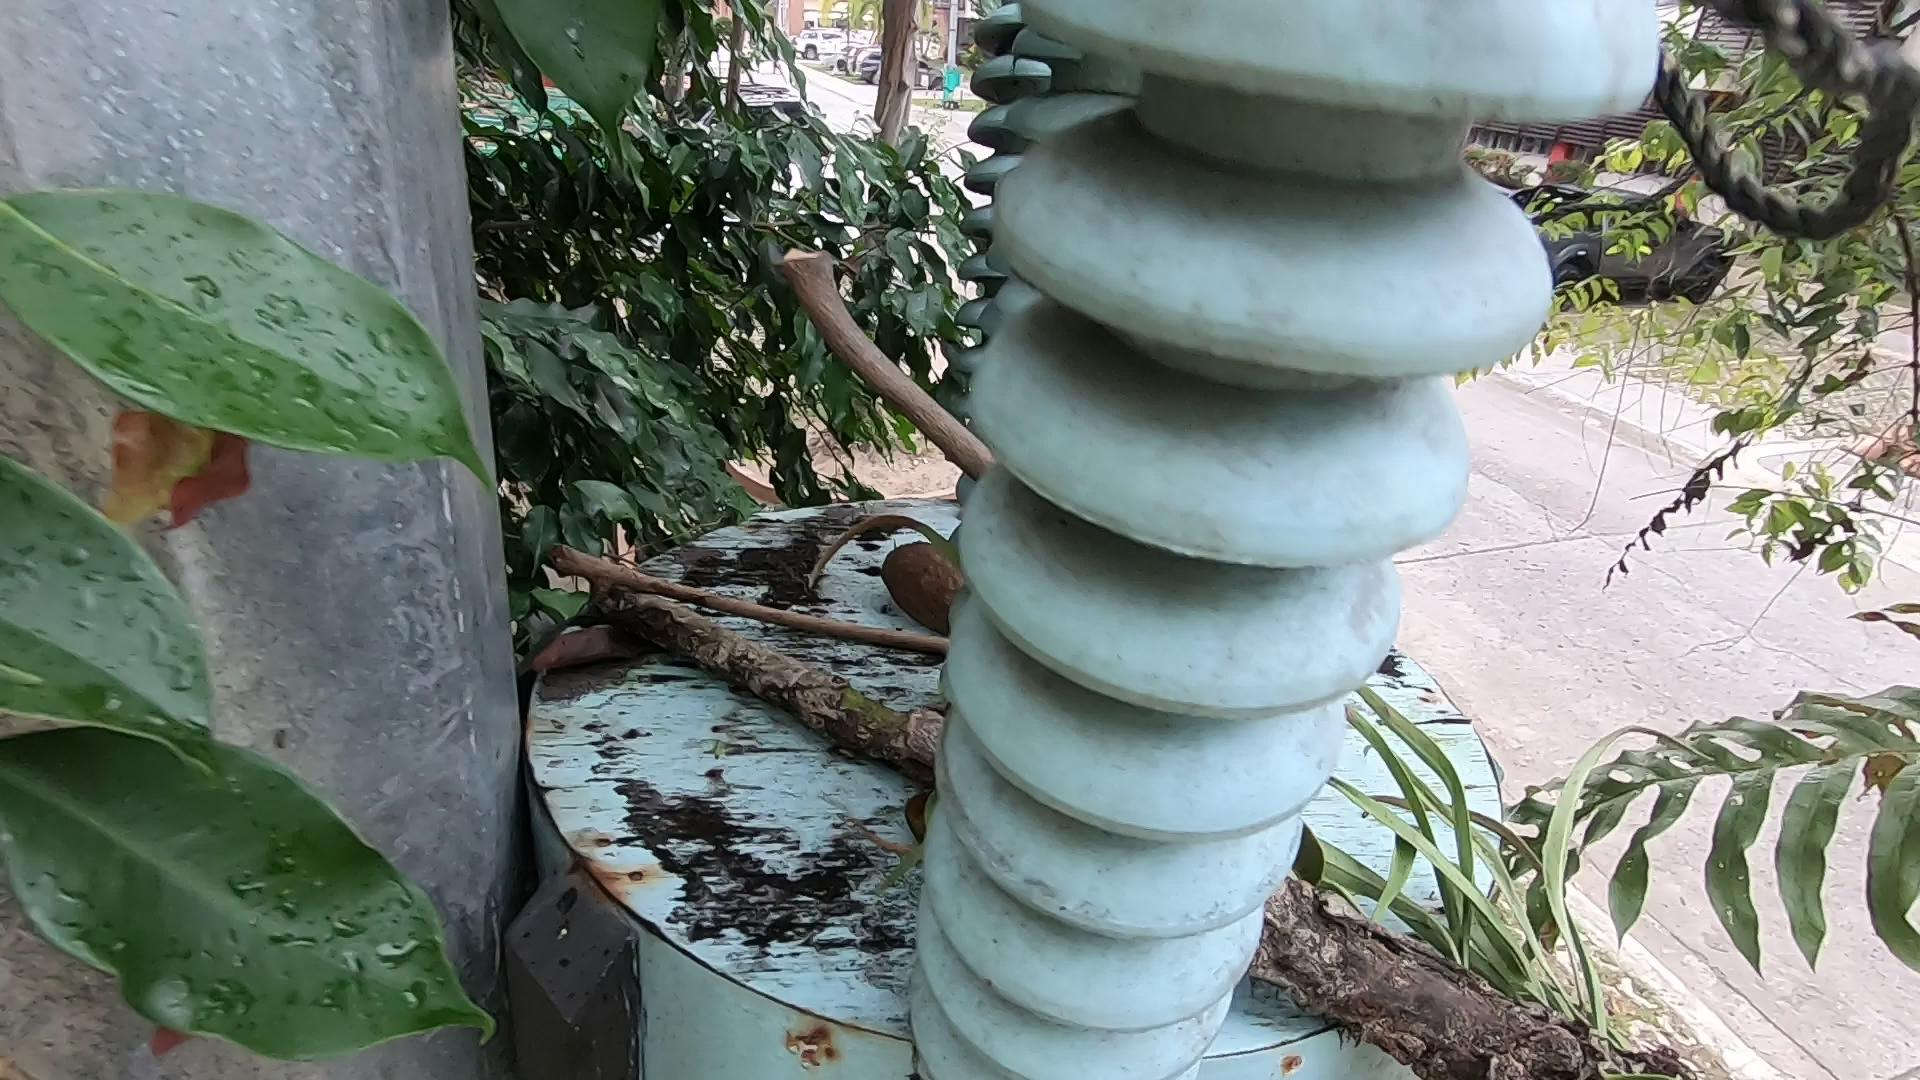branch with leaves: (601, 576, 1571, 1062)
leaf: (564, 576, 654, 705), (903, 786, 931, 848)
mahogany fruit: (878, 524, 985, 671)
tree branch: (795, 262, 982, 467), (547, 560, 963, 651)
